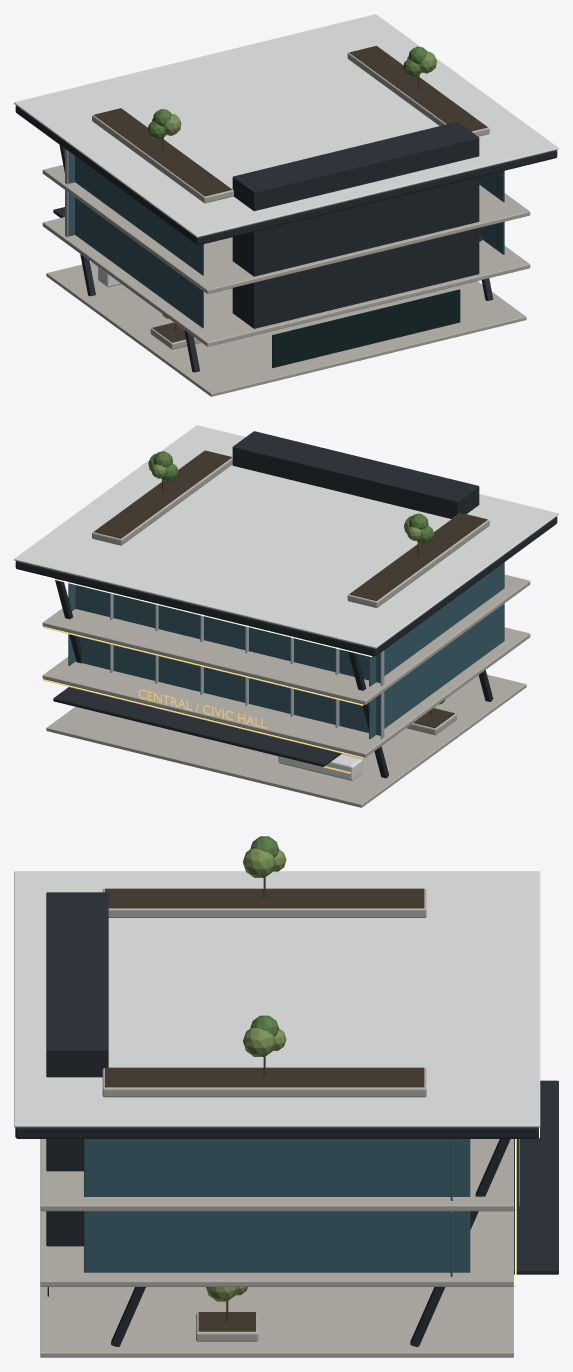
File: central-DRKHbP4k.glb
3 views of the same model, one above another, from view 1: azimuth 30°, elevation 25°; view 2: azimuth 150°, elevation 25°; view 3: azimuth 270°, elevation 25° (orthographic). The views are drawn at different scales.
Visible parts, largest first — view 1: Central_Pearl, Central_Graphite, Central_Concrete, Central_Glazing, Mission wall, Central_Soil, Central_Leaf, Central_LeafLight; view 2: Central_Pearl, Central_Concrete, Central_Glazing, Central_Graphite, Central_Soil, Central_Gold, Central_Metal, Central_Leaf, Roof perimeter light.001, Central_LeafLight; view 3: Central_Pearl, Central_Concrete, Central_Glazing, Central_Graphite, Central_Soil, Central_LeafLight, Central_Leaf.
Part boxes in pixels (<box>): Central_Pearl: <box>14,14,558,287</box>; Central_Graphite: <box>15,105,557,372</box>; Central_Concrete: <box>42,46,530,396</box>; Central_Glazing: <box>68,151,504,328</box>; Mission wall: <box>272,289,460,368</box>; Central_Soil: <box>94,46,487,342</box>; Central_Leaf: <box>147,46,427,318</box>; Central_LeafLight: <box>151,51,436,135</box>; Central_Pearl: <box>14,425,558,780</box>; Central_Concrete: <box>42,451,530,807</box>; Central_Glazing: <box>68,562,504,739</box>; Central_Graphite: <box>15,431,557,778</box>; Central_Soil: <box>94,450,487,728</box>; Central_Gold: <box>43,626,363,773</box>; Central_Metal: <box>110,592,384,738</box>; Central_Leaf: <box>153,451,445,704</box>; Roof perimeter light.001: <box>18,570,371,656</box>; Central_LeafLight: <box>148,453,421,540</box>; Central_Pearl: <box>14,871,540,1127</box>; Central_Concrete: <box>40,888,513,1357</box>; Central_Glazing: <box>84,1139,470,1276</box>; Central_Graphite: <box>15,892,558,1346</box>; Central_Soil: <box>105,888,424,1331</box>; Central_LeafLight: <box>206,848,286,1301</box>; Central_Leaf: <box>250,836,279,1036</box>.
Bounding box in the file's own units: 48.2 × 28.35 × 43.7.
